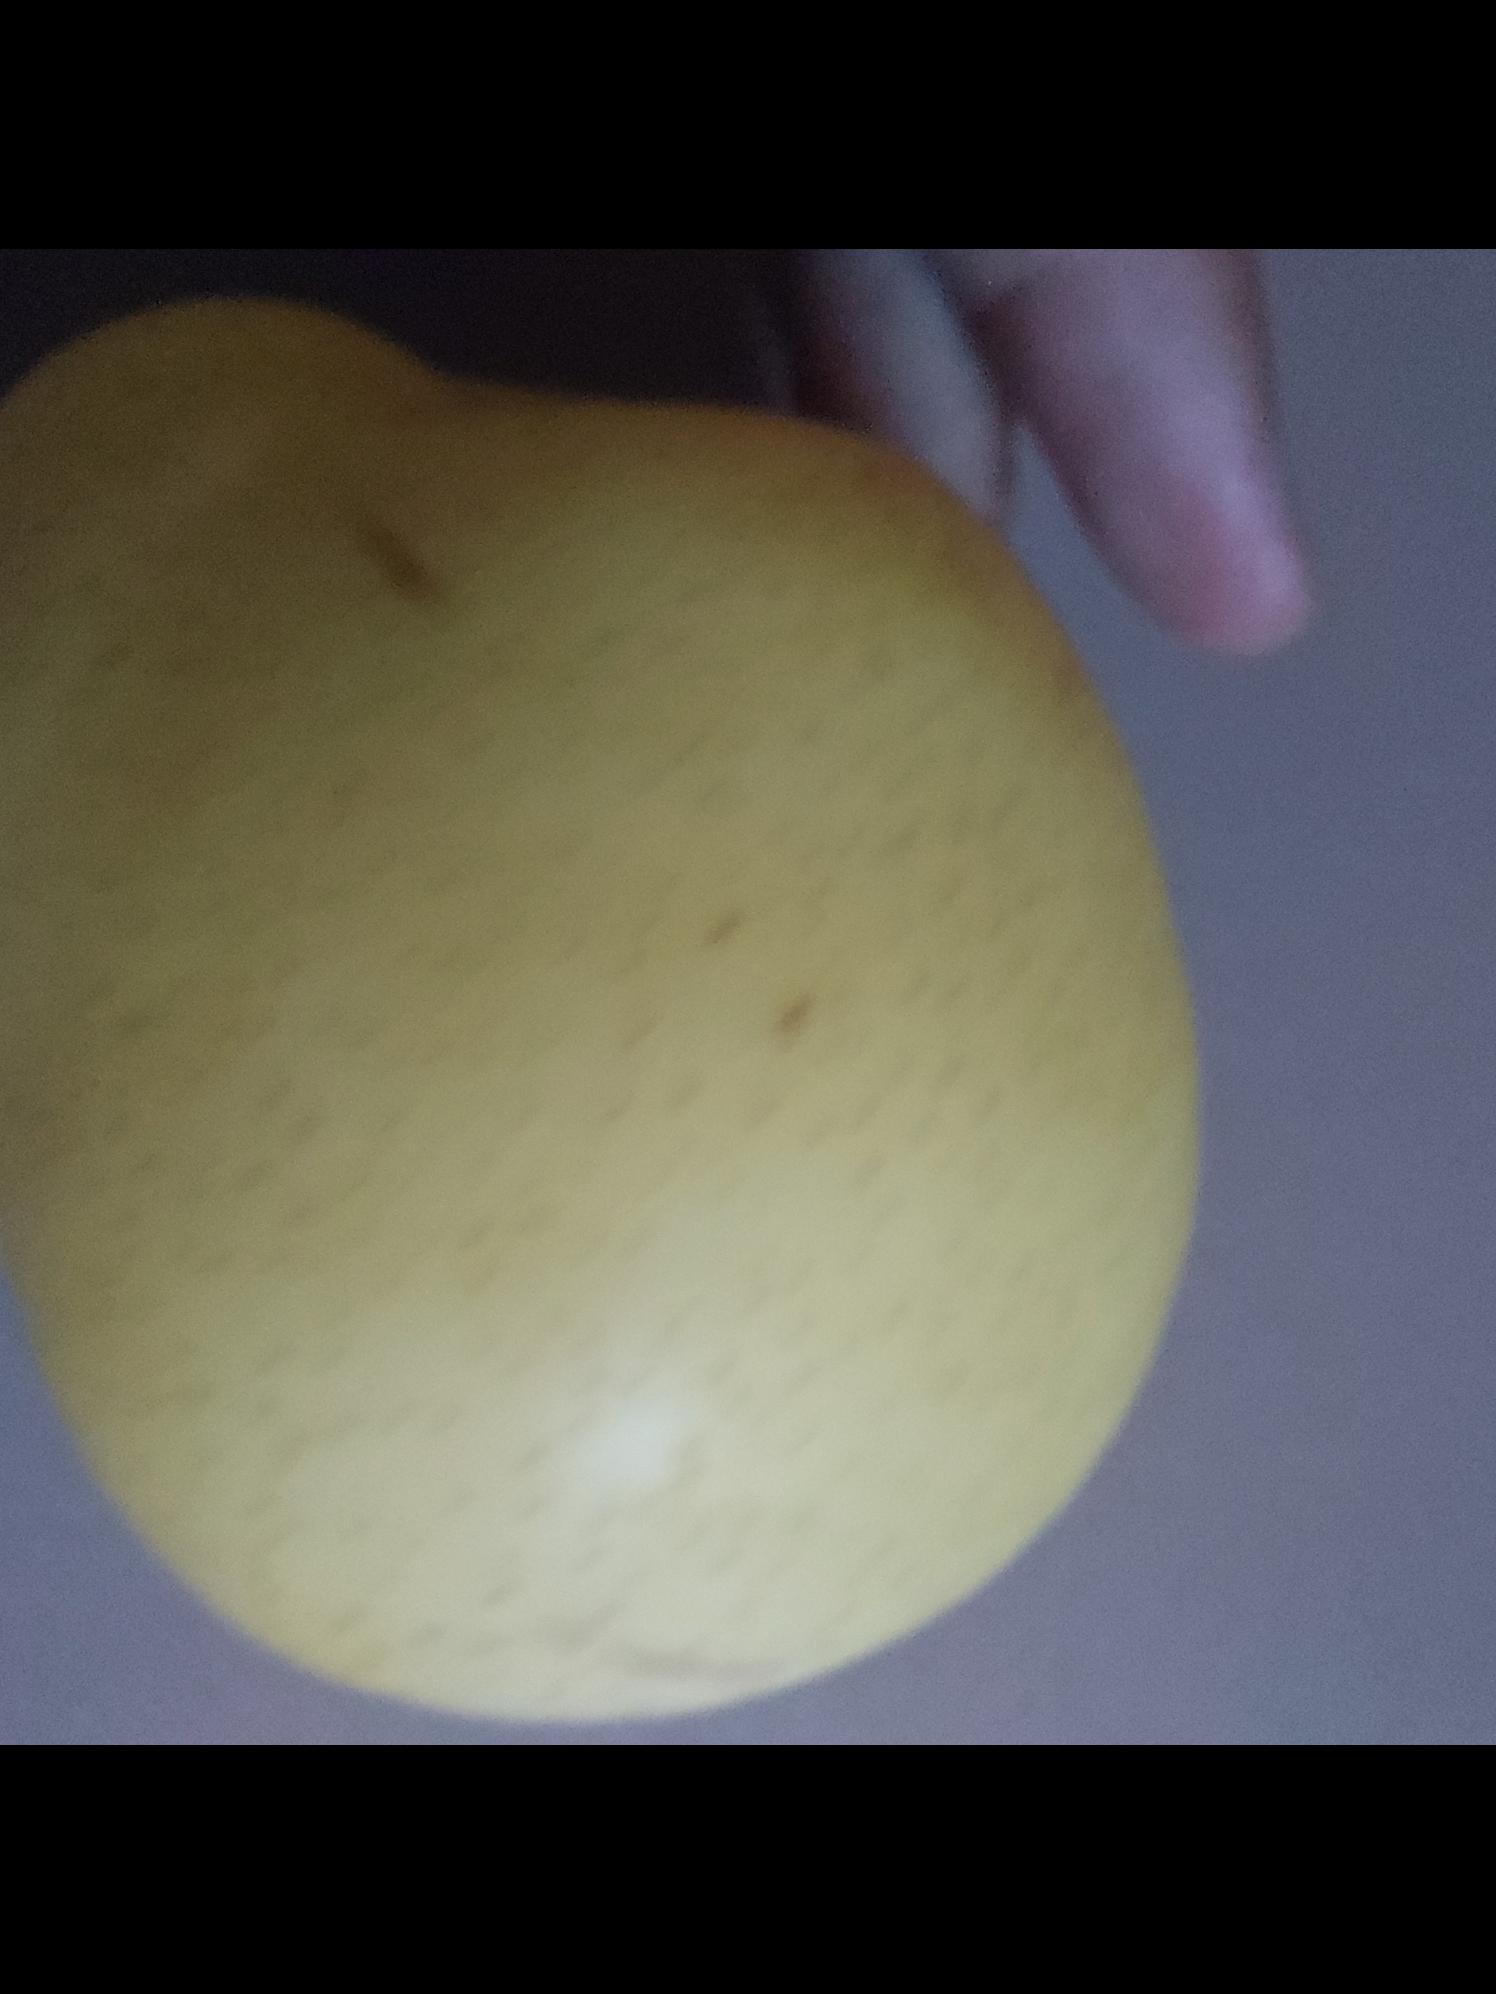Good Pear: (0, 556, 1118, 1707)
